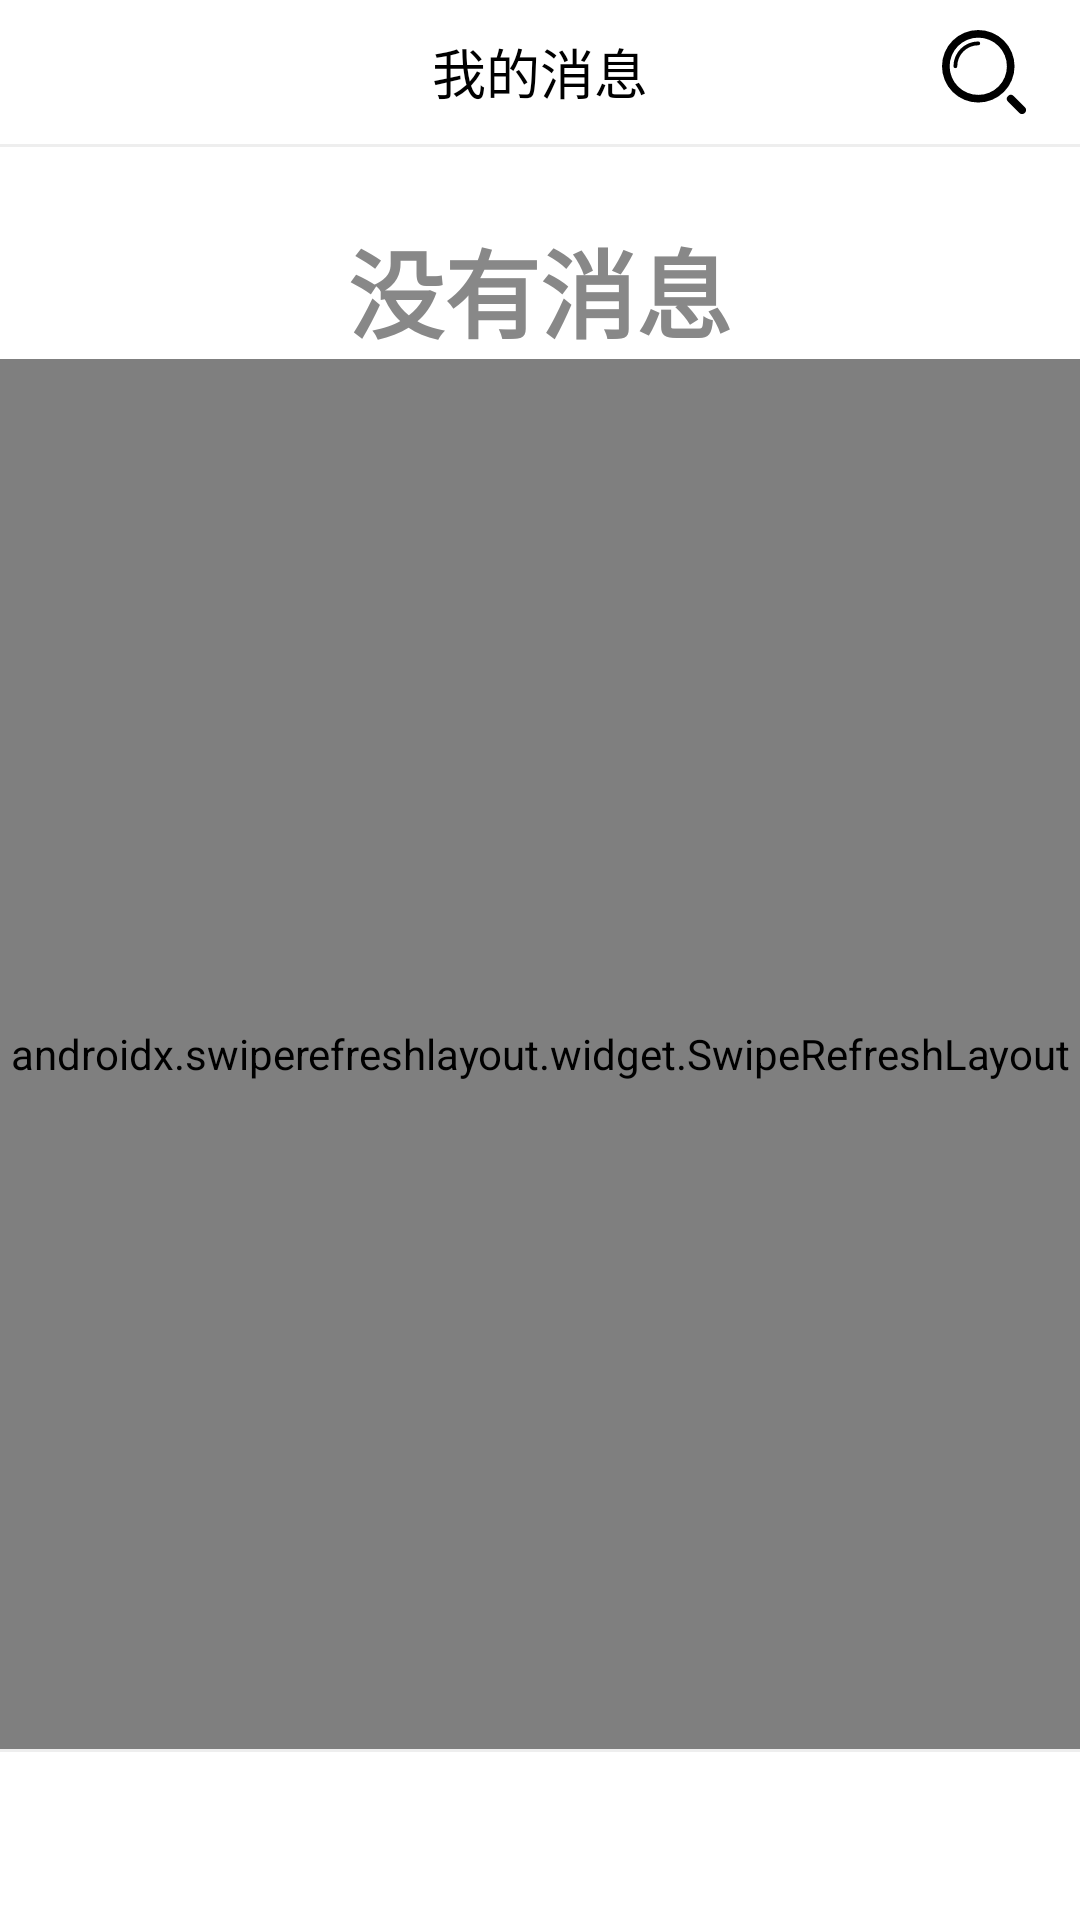

Screen size 1080px x 1920px. Icon name, then its center in pixels as point (x, y):
search: point (984, 72)
